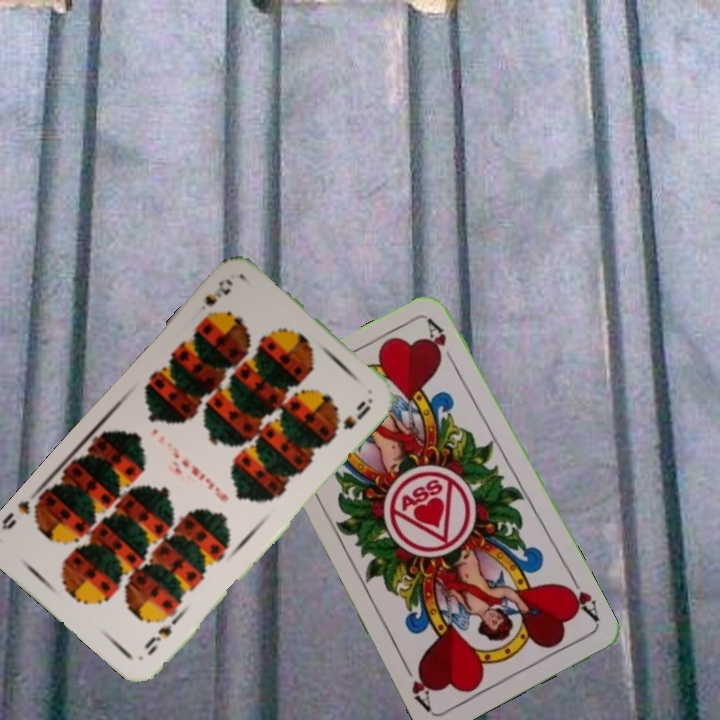HA: (559, 571, 602, 625)
S9: (196, 274, 235, 325), (140, 621, 175, 658)
